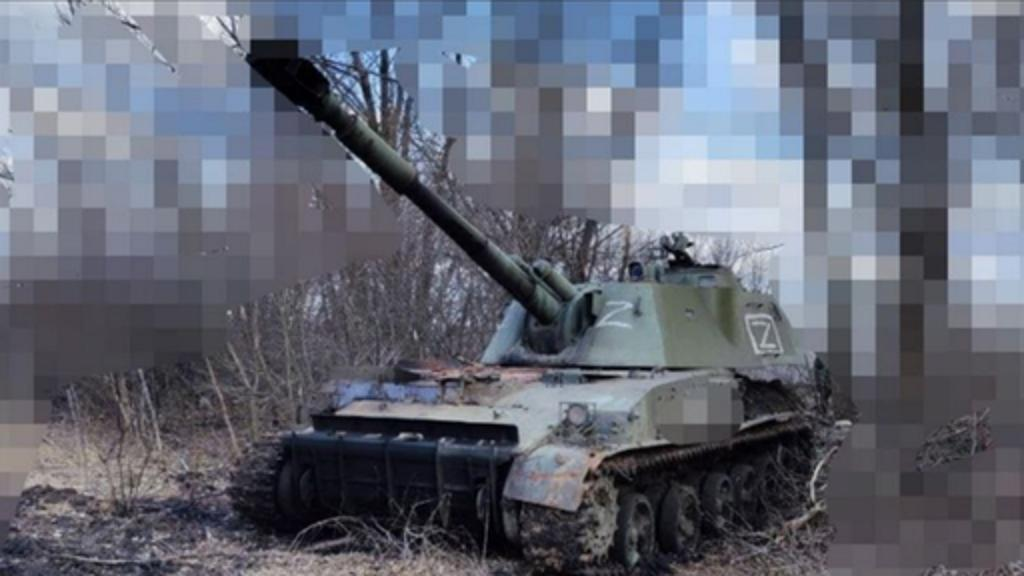ART: (220, 26, 828, 566)
